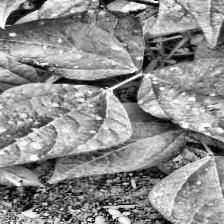Bean Rust: (0, 82, 131, 189), (0, 12, 145, 76), (139, 57, 224, 159), (151, 152, 224, 224)
